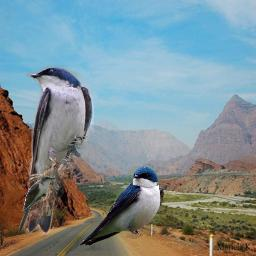Cuckoo: (17, 175, 56, 233)
Swallow: (21, 65, 94, 234), (79, 165, 164, 247)
